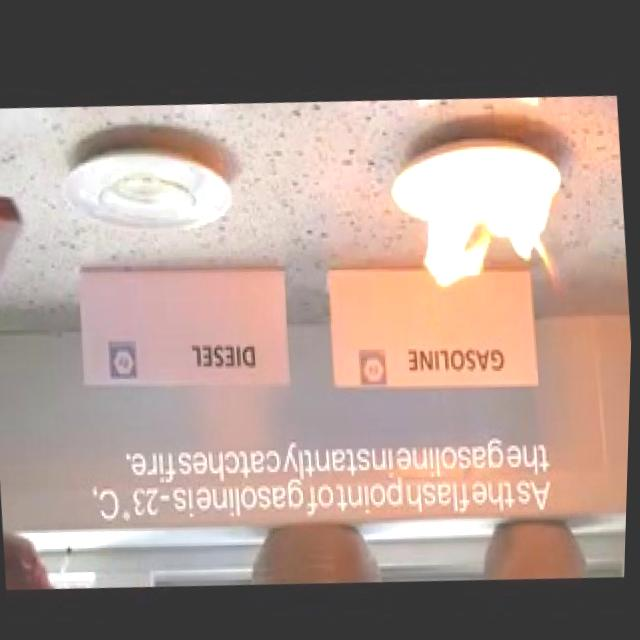helmet: (403, 130, 573, 304)
